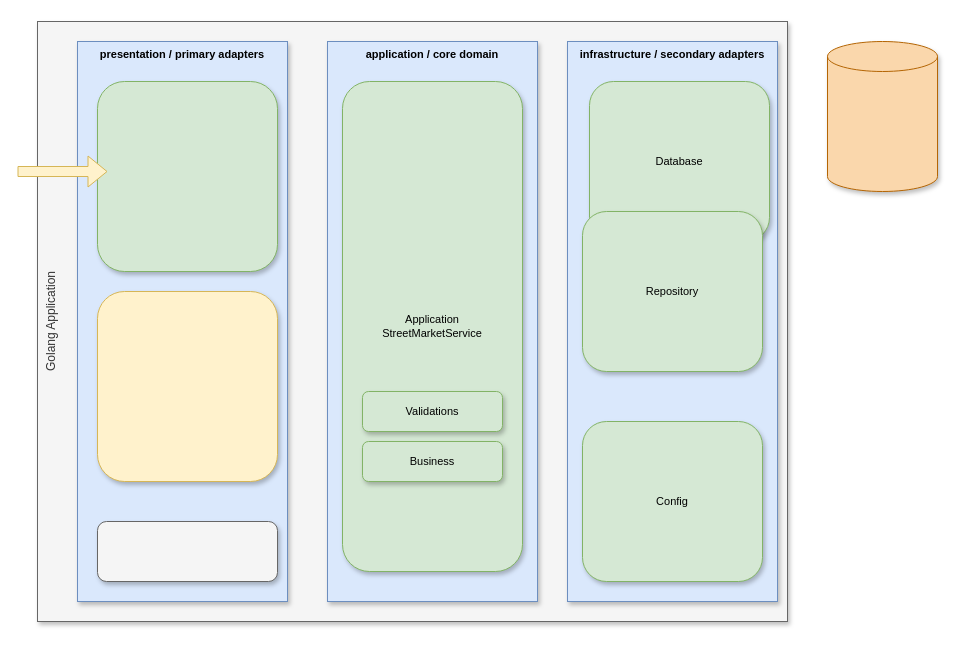
The diagram is 961 pixels wide and 646 high, and some of its shapes have lost their labels. Each missing label, with the centre of its shape:
"gRPC :50001" goes at (x=188, y=552).
"REST API :8080" goes at (x=188, y=177).
"REST MONITORING :7777/metrics" goes at (x=188, y=387).
"SQL-Flavor can be a Postgres or MySQL" goes at (x=883, y=117).
